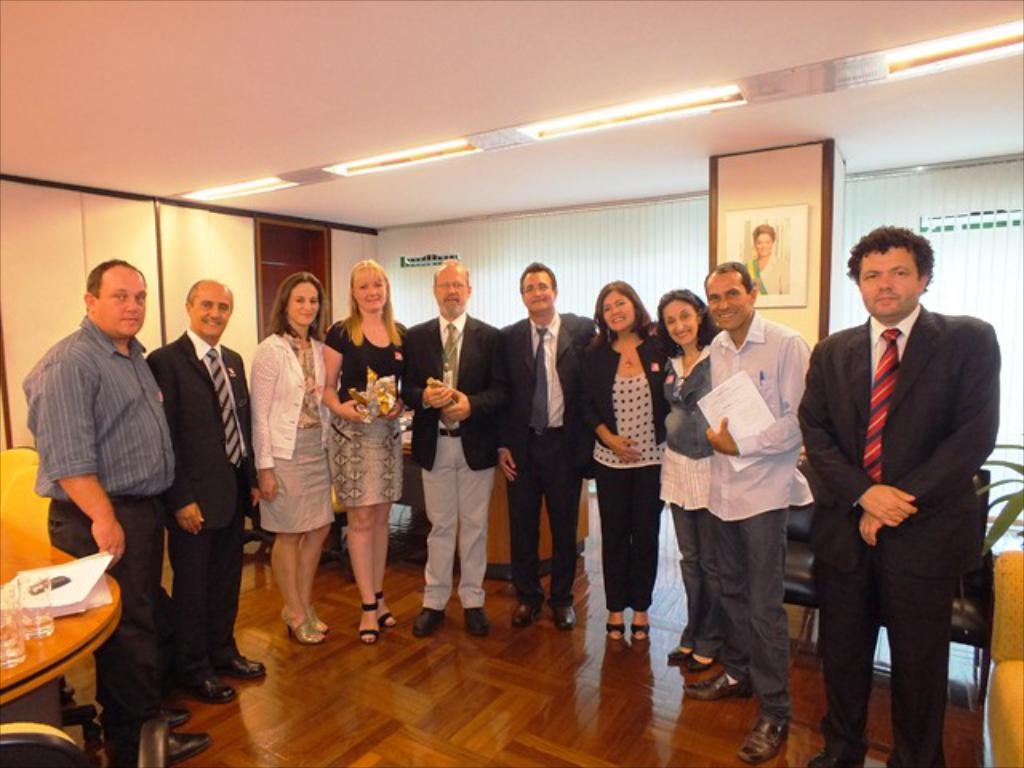Footwear: (734, 710, 795, 766), (683, 666, 754, 702), (283, 598, 331, 648), (163, 725, 213, 766), (222, 648, 274, 683), (510, 597, 549, 634), (179, 678, 234, 702), (802, 744, 862, 766), (354, 600, 379, 645), (410, 610, 448, 638), (461, 605, 488, 642), (160, 702, 194, 731), (542, 605, 579, 630), (682, 650, 718, 675), (374, 590, 395, 632), (656, 642, 690, 666), (629, 618, 651, 648), (602, 618, 626, 642)
